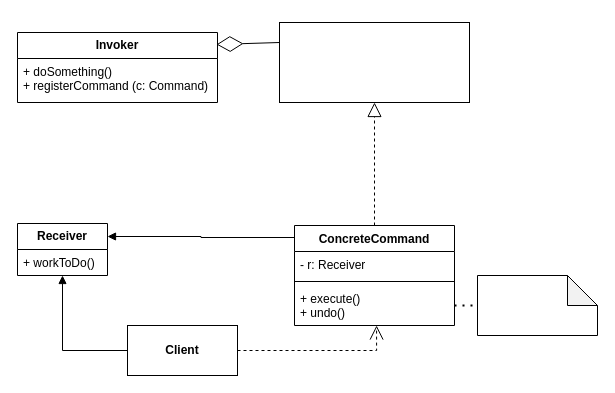
Some shapes in this 615 by 393 pixel diagram are drawn without their labels. Each missing label, with the centre of its shape:
"<<Interface>> Command + execute() + undo()" goes at [374,62].
"execute() { r.workToDo() }" goes at [537,305].
